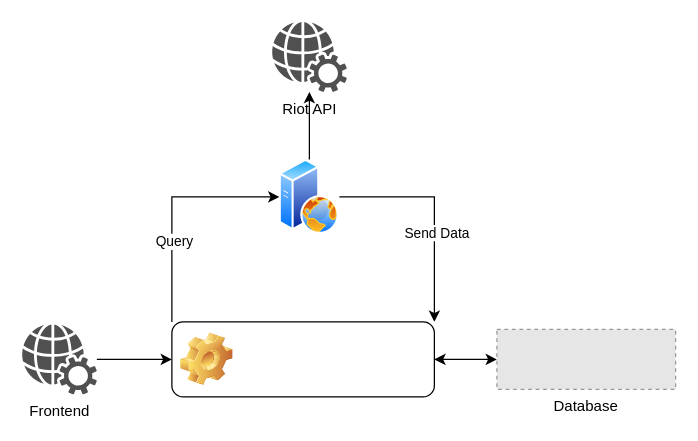
Some shapes in this 698 by 441 pixel diagram are drawn without their labels. Grey dashed boxes stand in for pictures. Here are the shapes that lost their labels. From the top down, the centre of each, then its label:
(309,196): API-Wrapper
(302,359): Backend Data Orchestration
